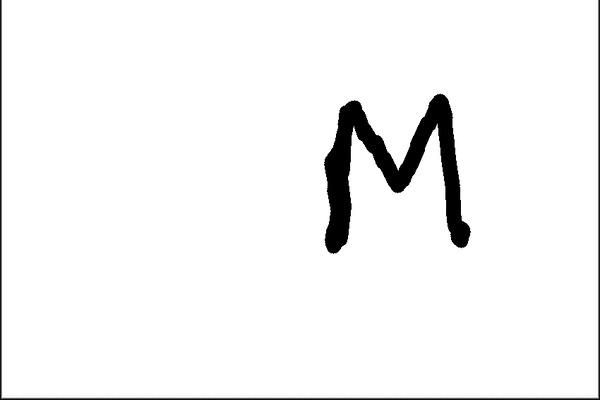M: (319, 93, 471, 248)
